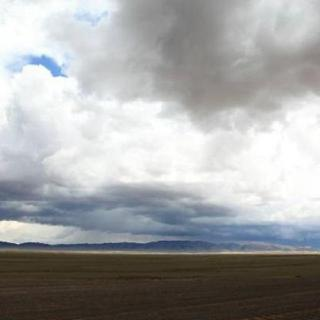Nimbostratus: (0, 0, 320, 242)
